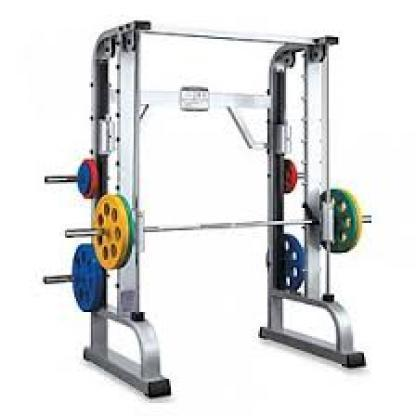smith machine: (44, 18, 373, 399)
